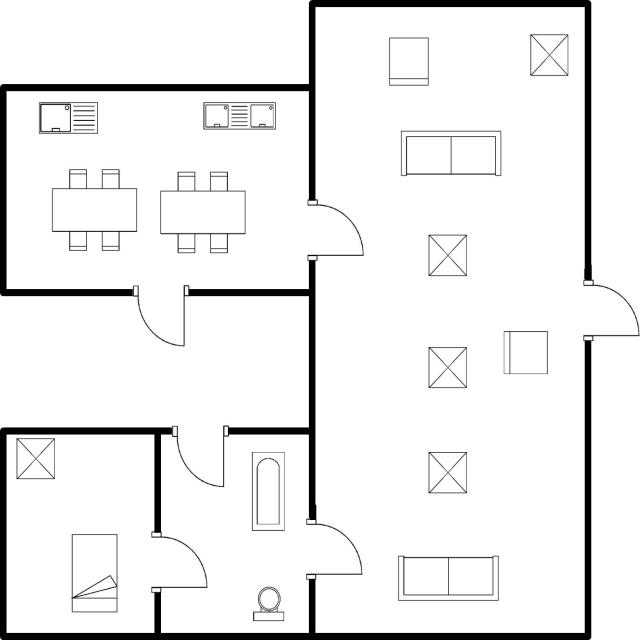bed: (66, 528, 122, 618)
coffee_table: (424, 230, 472, 284), (524, 29, 572, 81), (422, 447, 470, 498), (424, 342, 471, 392), (12, 435, 60, 483)
dining_table: (45, 164, 143, 255), (157, 166, 251, 260)
large_sink: (249, 582, 289, 626)
large_sofa: (390, 550, 502, 607), (396, 125, 504, 182)
sink: (36, 97, 102, 138)
small_sofa: (384, 34, 433, 91), (498, 327, 550, 380)
tub: (246, 447, 288, 535)
twin_sink: (198, 97, 278, 135)
